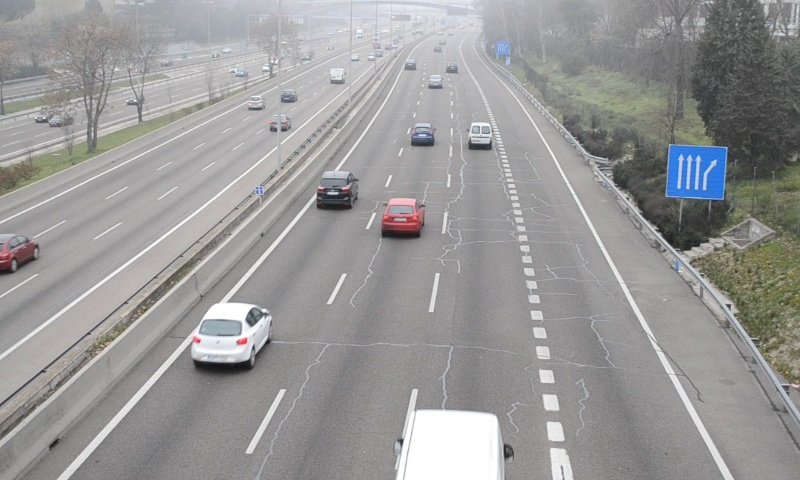car: (192, 302, 272, 364), (317, 171, 356, 207), (382, 198, 422, 232), (411, 123, 434, 143), (428, 74, 443, 89)
van: (396, 410, 504, 480), (468, 121, 492, 146)
